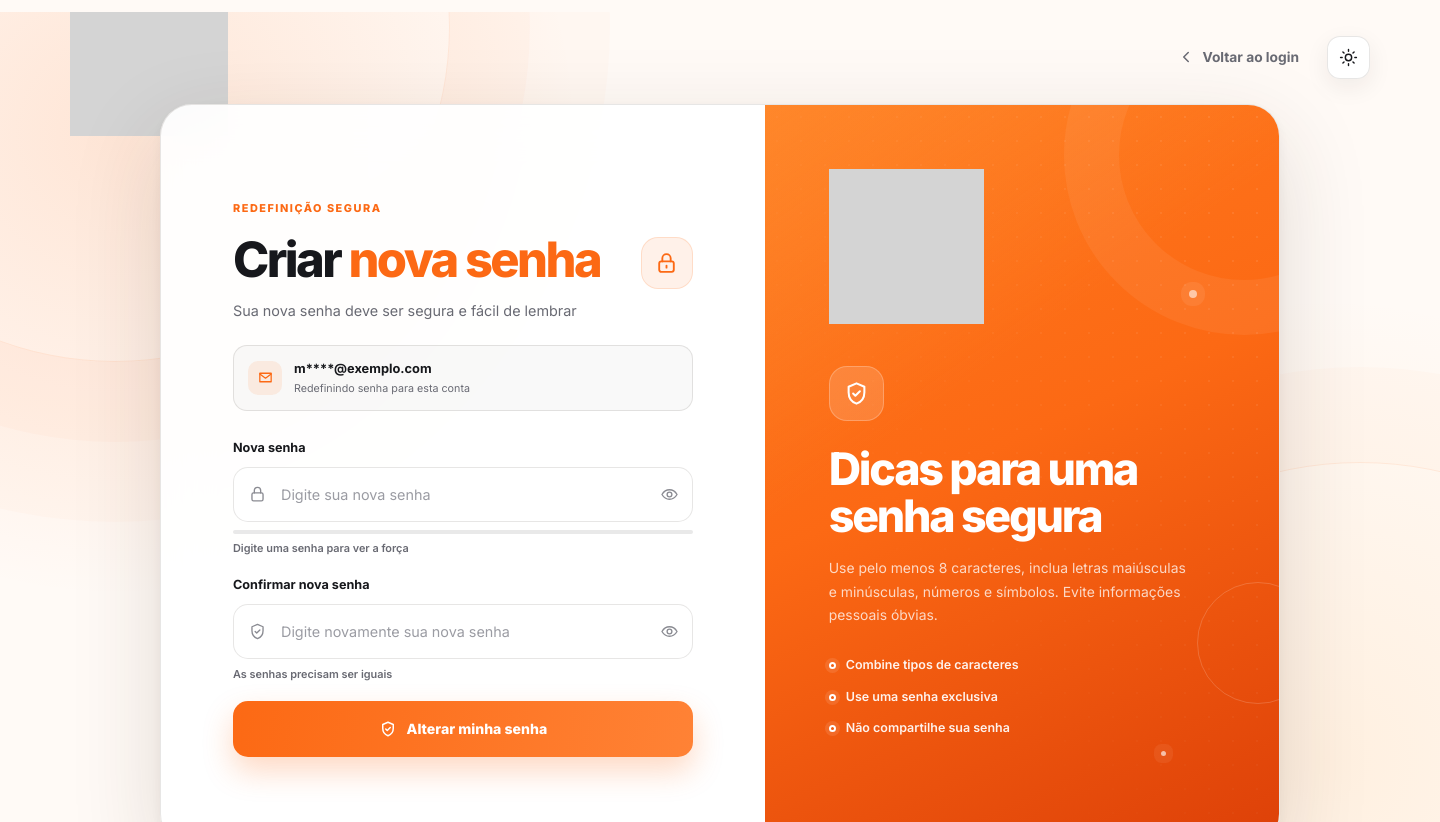
Test: experiência de recuperação de senha › mede a força e compara as duas senhas
The width and height of the screenshot is (1440, 822).
Step 1. Type "Senha@123" into the password field labelled "Nova senha" → (464, 494), box [281, 468, 648, 521]
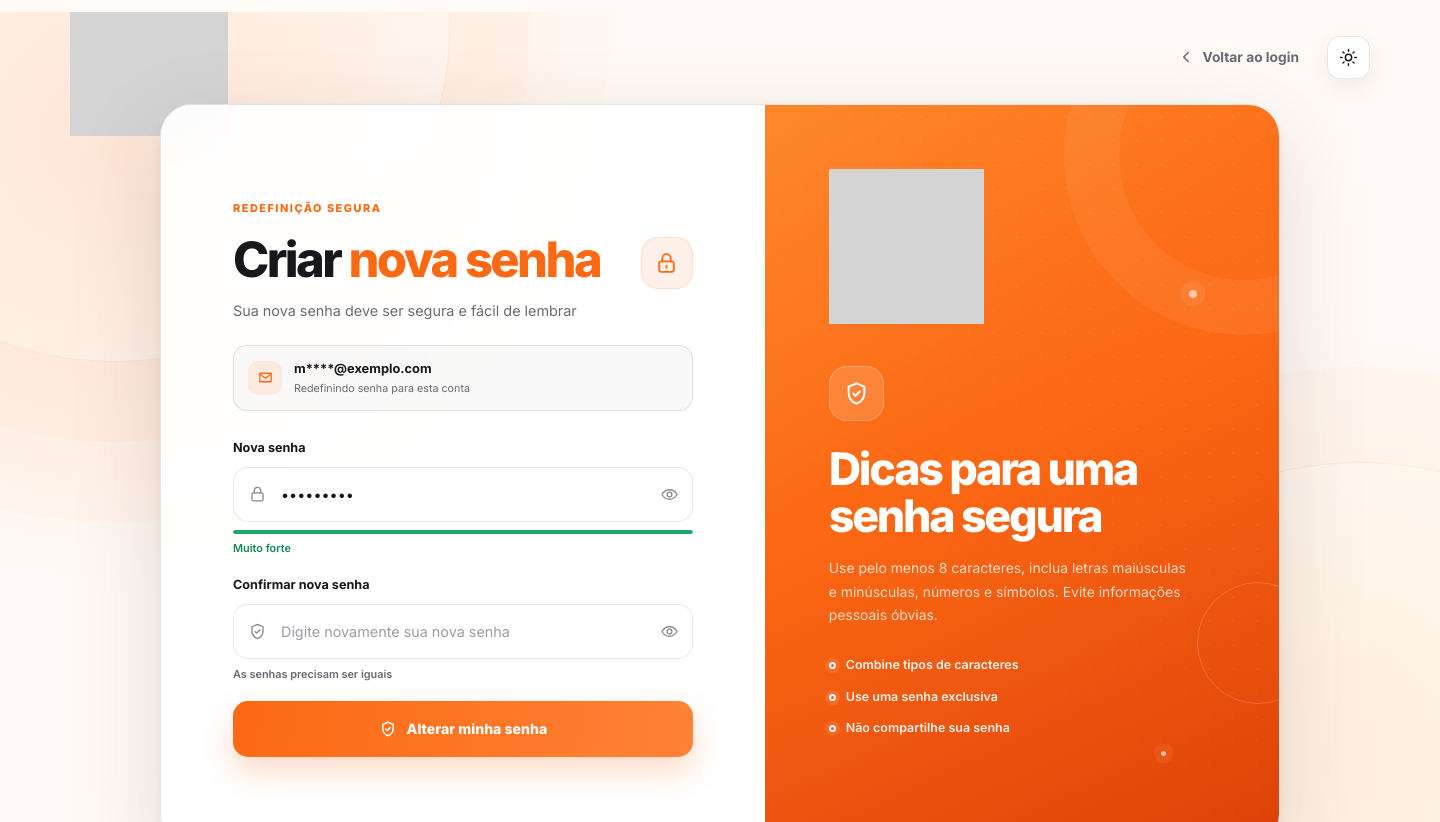
Step 2. Type "Senha@123" into the password field labelled "Confirmar nova senha" → (464, 631), box [281, 605, 648, 658]
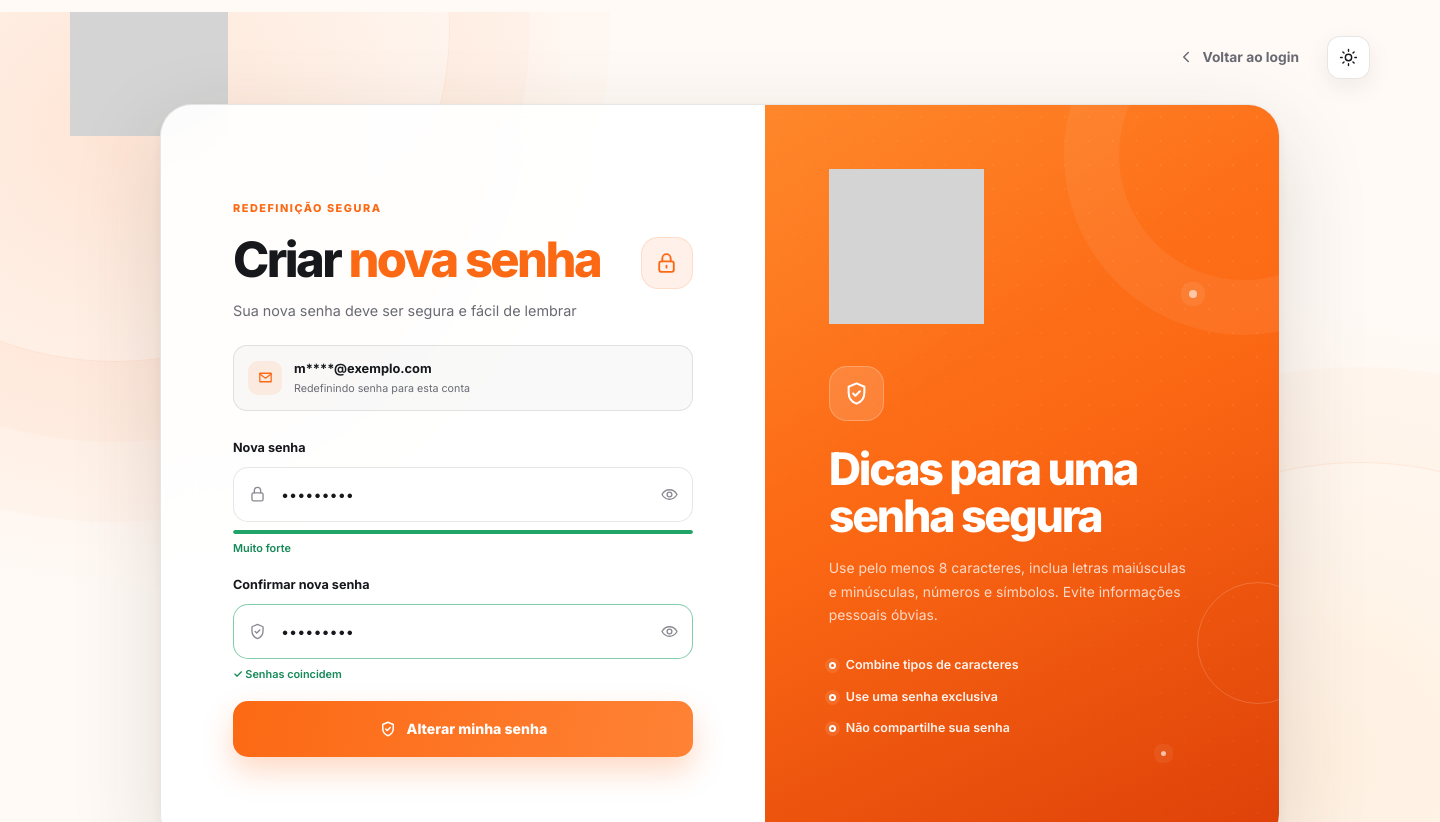
Expected: the text "Muito forte" is shown, [233, 541, 291, 555]
Expected: the text "✓ Senhas coincidem" is shown, [233, 667, 342, 681]
